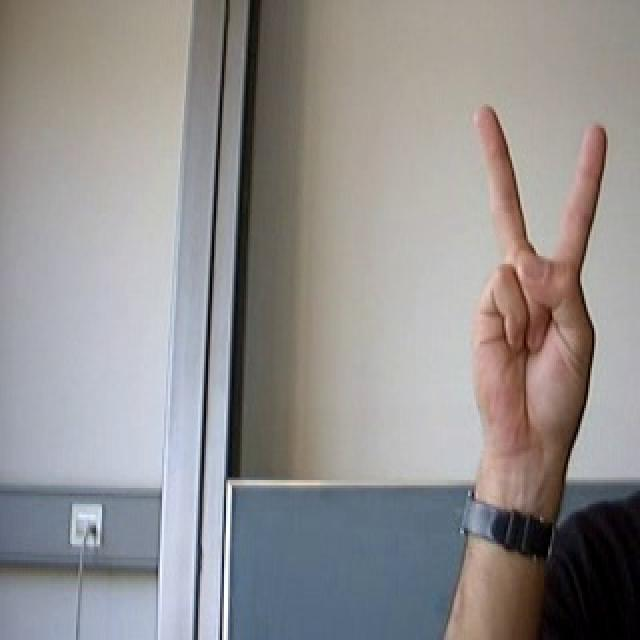V: (442, 80, 625, 486)
